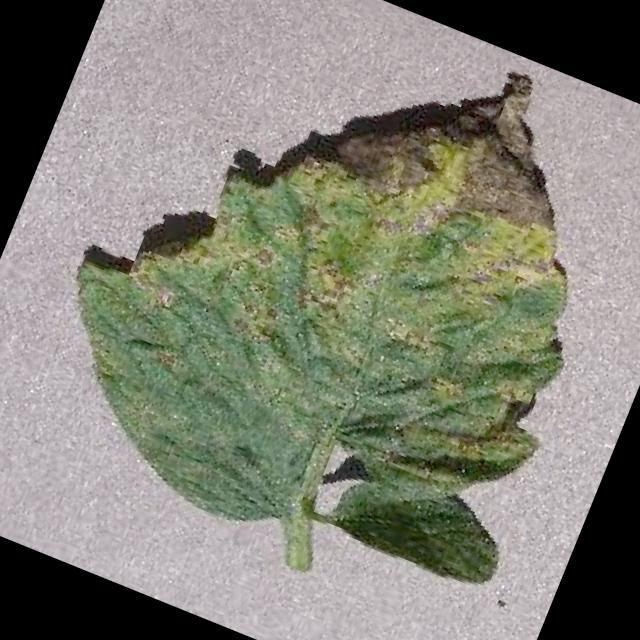Tomato Septoria spot leaf: (14, 0, 640, 621)
